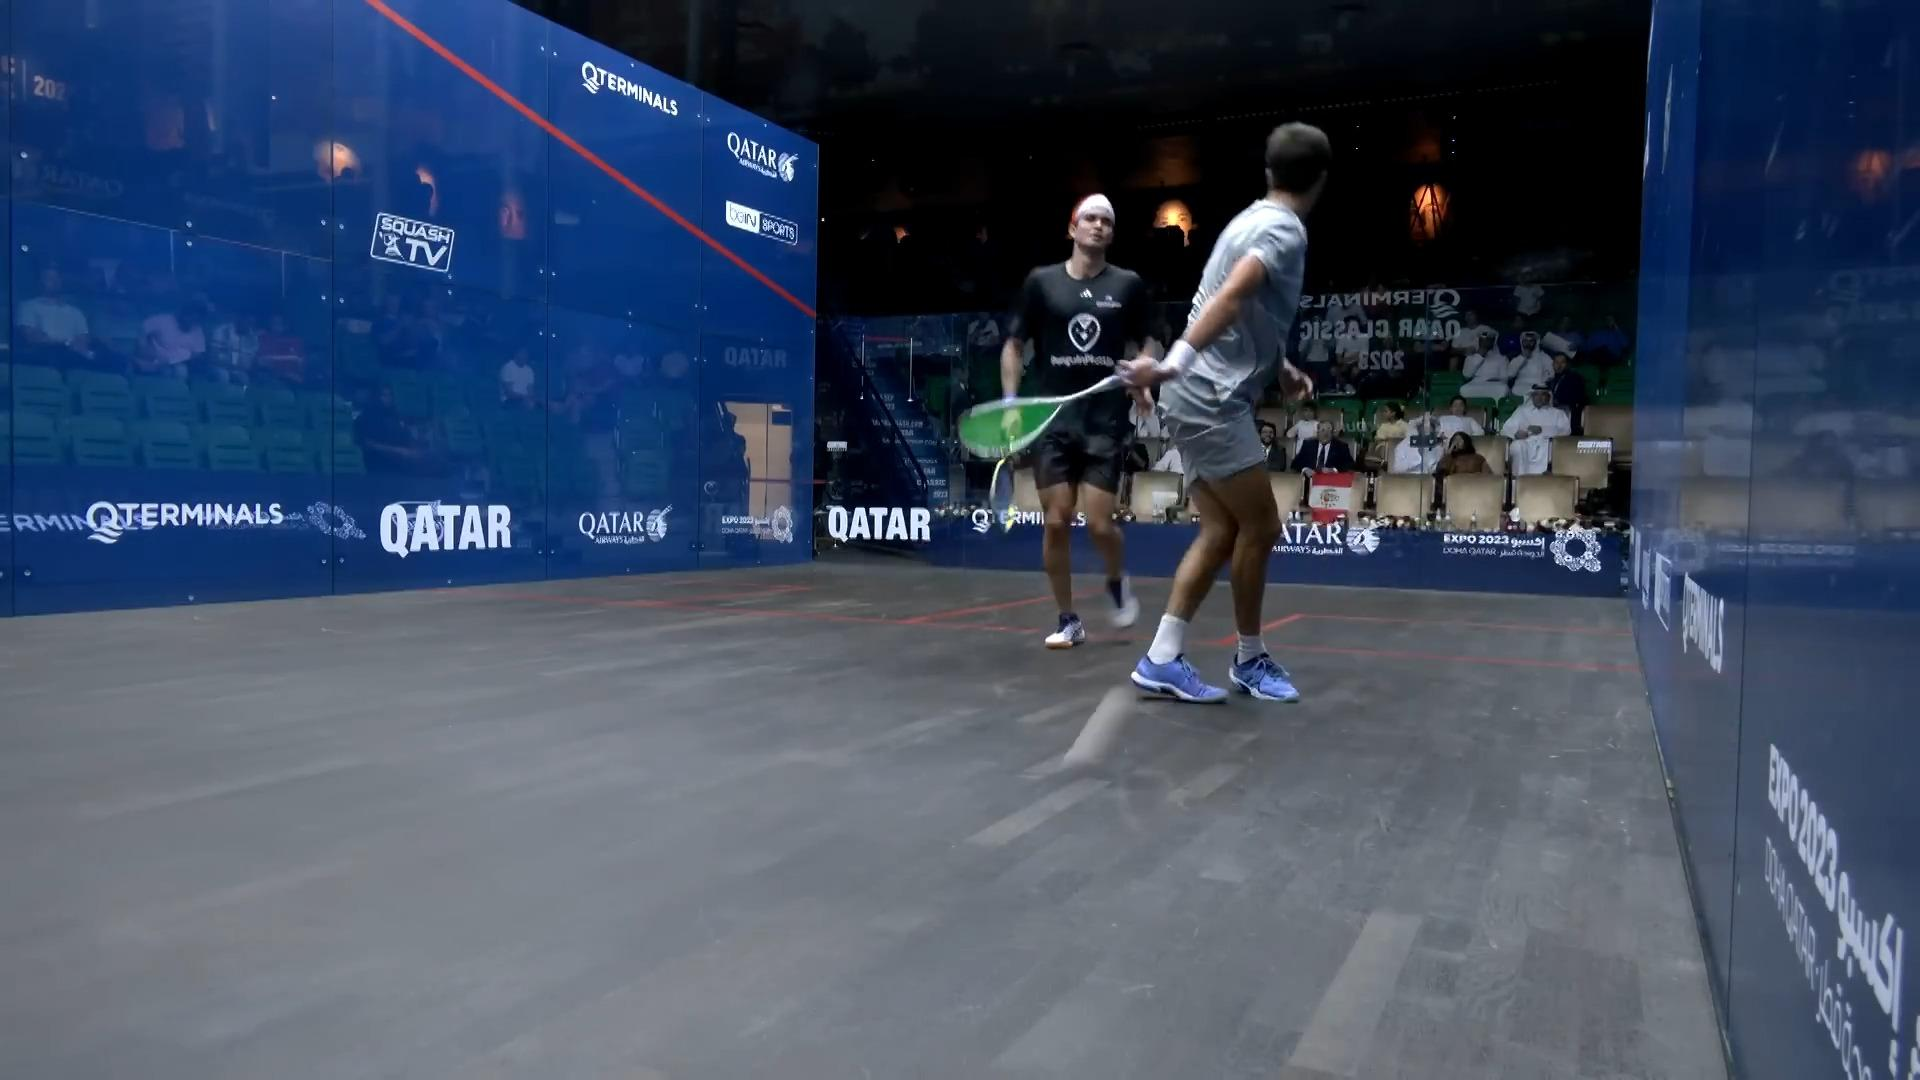Racket: (953, 368, 1125, 464)
